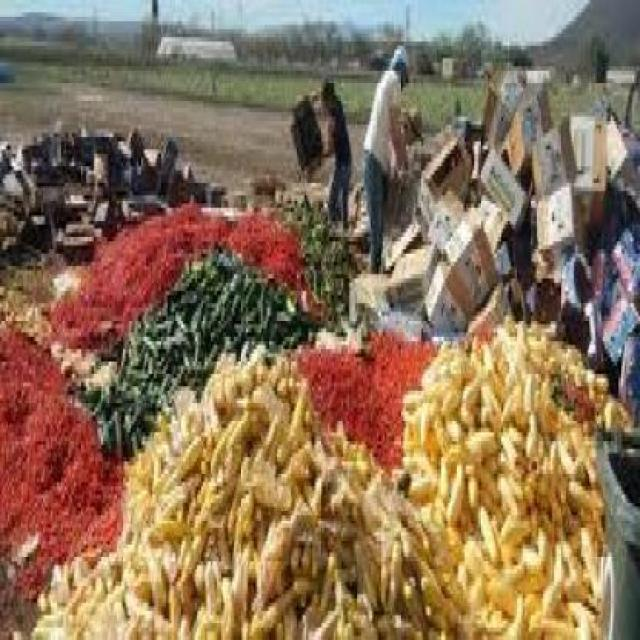garbage: (3, 129, 294, 636), (368, 246, 637, 637), (431, 100, 638, 233), (300, 212, 364, 636)
